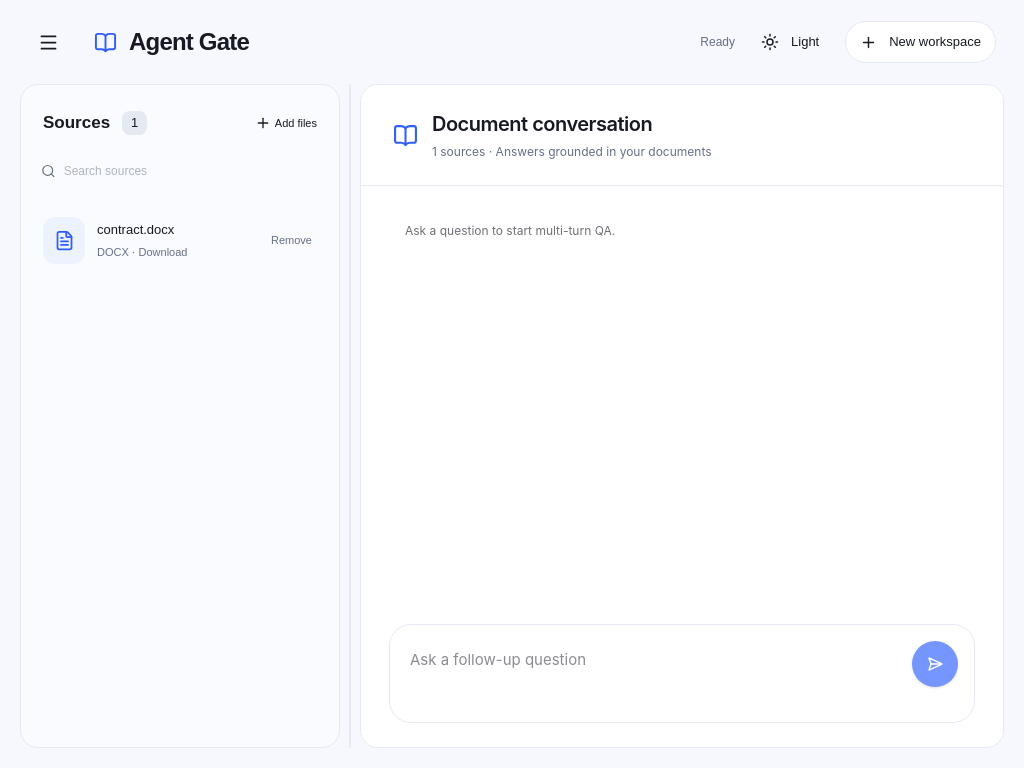
来源列表默认不加载原文，搜索过滤文件且清空后恢复列表
Expected: the link "Download contract.docx" is shown, [97,222,188,258]
Type "missing" into the search field labelled "Search sources" at (191, 170), box [64,154,319,188]
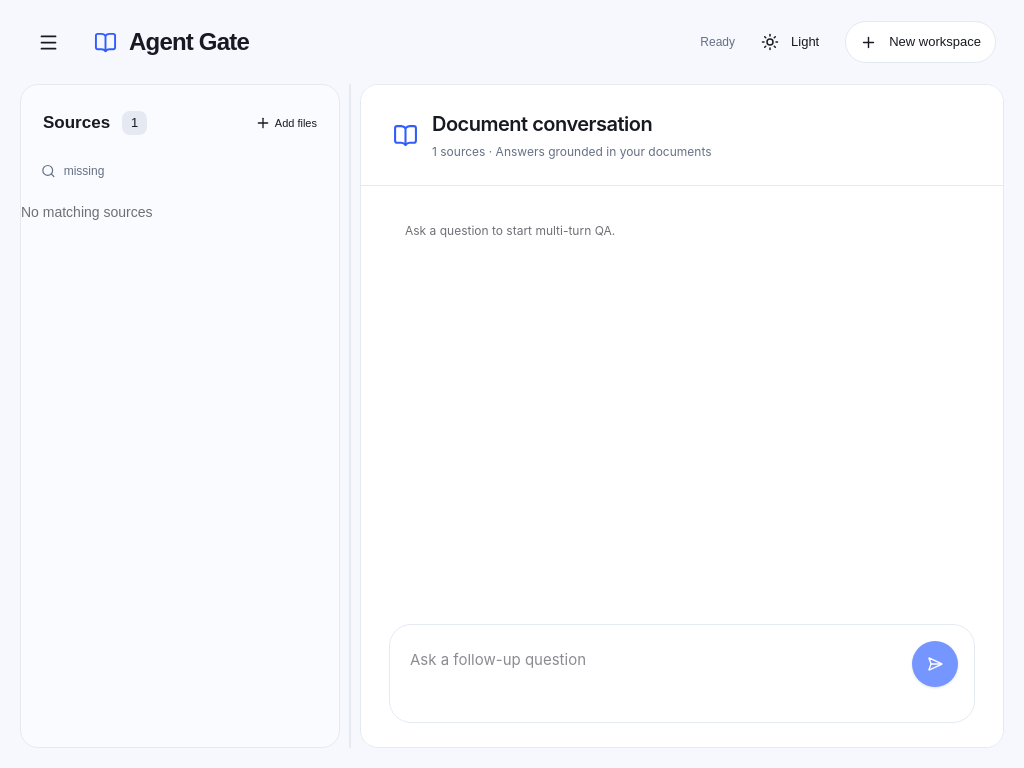
Expected: the text "No matching sources" is shown, [21,204,152,220]
Clear the search field named "Search sources" at (191, 170), box [64,154,319,188]
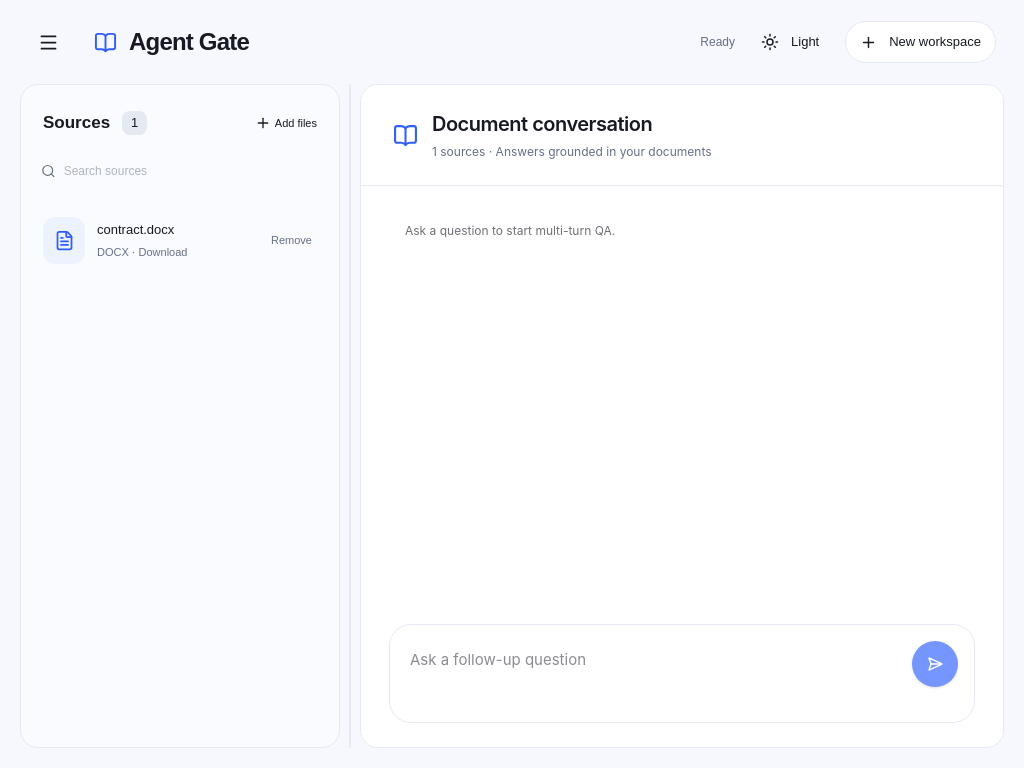
Expected: the link "Download contract.docx" is shown, [97,222,188,258]
